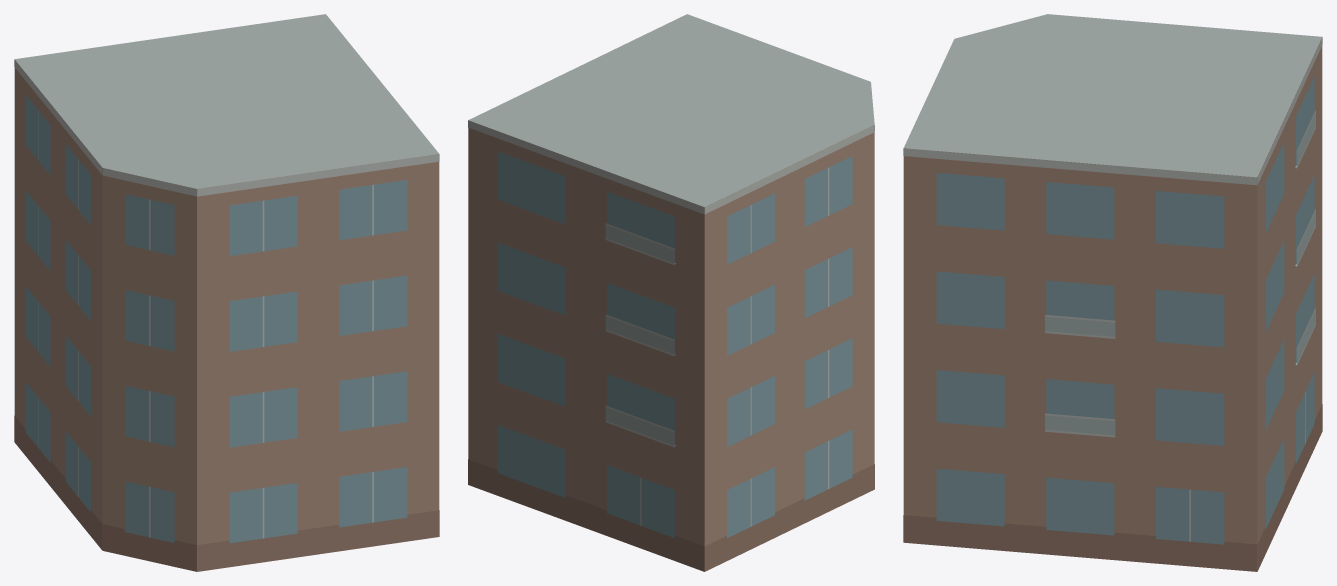
Rendered from residential-f5c07353-52f5-484d-b136-2059f3f2c7c9.glb.
The picture shows the model from 3 angles, left to right: view 1: azimuth 30°, elevation 25°; view 2: azimuth 150°, elevation 25°; view 3: azimuth 270°, elevation 25°; orthographic projection. The views are drawn at different scales.
Parts seen in each view (by area): view 1: residential-f5c07353-52f5-484d-b136-2059f3f2c7c9.tmp; view 2: residential-f5c07353-52f5-484d-b136-2059f3f2c7c9.tmp; view 3: residential-f5c07353-52f5-484d-b136-2059f3f2c7c9.tmp.
Part boxes in pixels (x1=…): residential-f5c07353-52f5-484d-b136-2059f3f2c7c9.tmp: x1=14, y1=14, x2=439, y2=571; residential-f5c07353-52f5-484d-b136-2059f3f2c7c9.tmp: x1=468, y1=14, x2=874, y2=571; residential-f5c07353-52f5-484d-b136-2059f3f2c7c9.tmp: x1=903, y1=14, x2=1322, y2=571.
Bounding box in the file's own units: 10.85 × 12.2 × 11.76.
